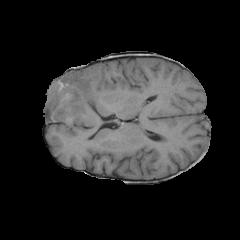glioma: (43, 70, 106, 127)
